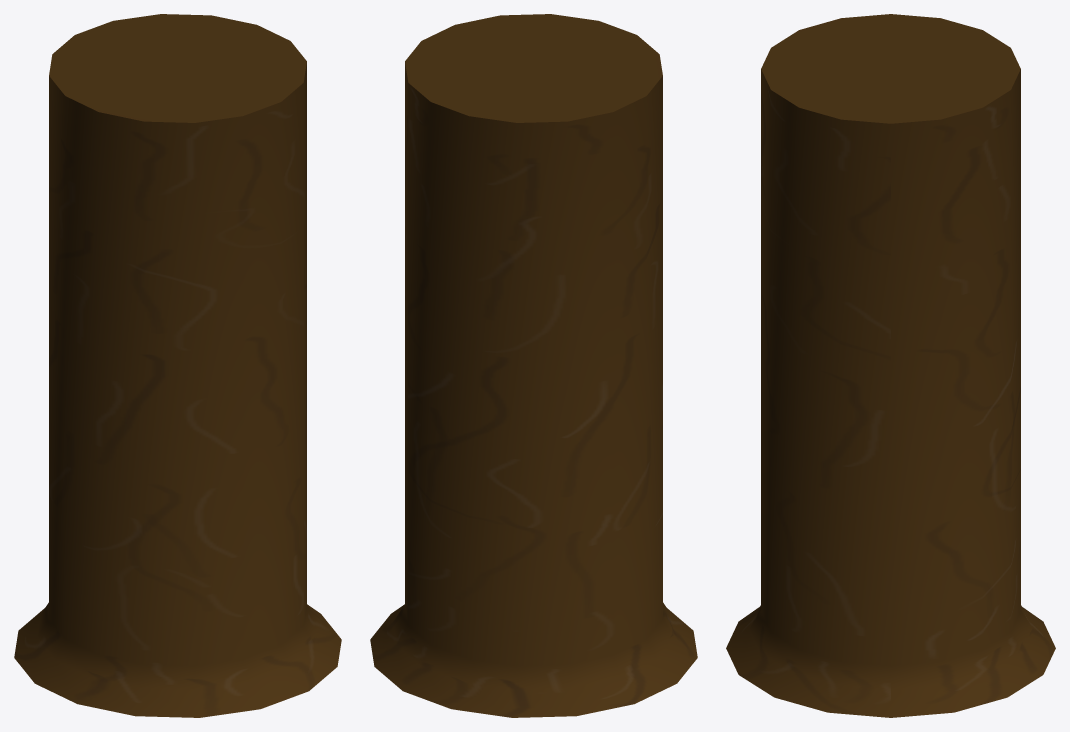
Rendered from TreeTrunkV2.1.fbx.
3 renders of one model, left to right at view 1: azimuth 30°, elevation 25°; view 2: azimuth 150°, elevation 25°; view 3: azimuth 270°, elevation 25°, orthographic.
Visible parts, largest first — view 1: TreeTrunkV2; view 2: TreeTrunkV2; view 3: TreeTrunkV2.
Boxes of the visible parts, bbox=[...] form: TreeTrunkV2: bbox=[14, 14, 341, 717]; TreeTrunkV2: bbox=[370, 14, 697, 717]; TreeTrunkV2: bbox=[726, 14, 1055, 717].
Bounding box in the file's own units: 800 × 1550 × 800.
1 material, 1 textured.
